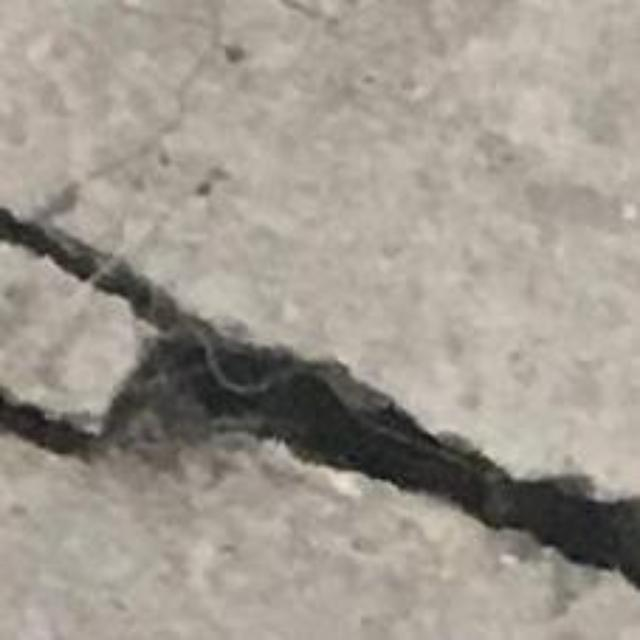crack: (0, 209, 639, 586)
